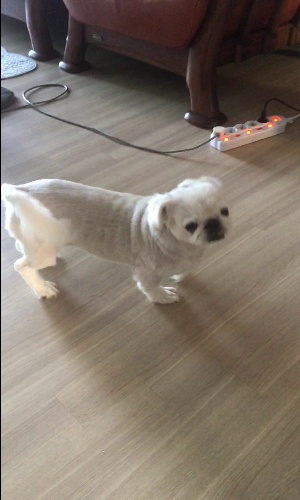ddubi: (1, 171, 237, 310)
